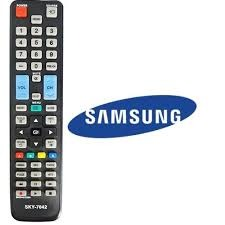remote control: (3, 0, 67, 223)
